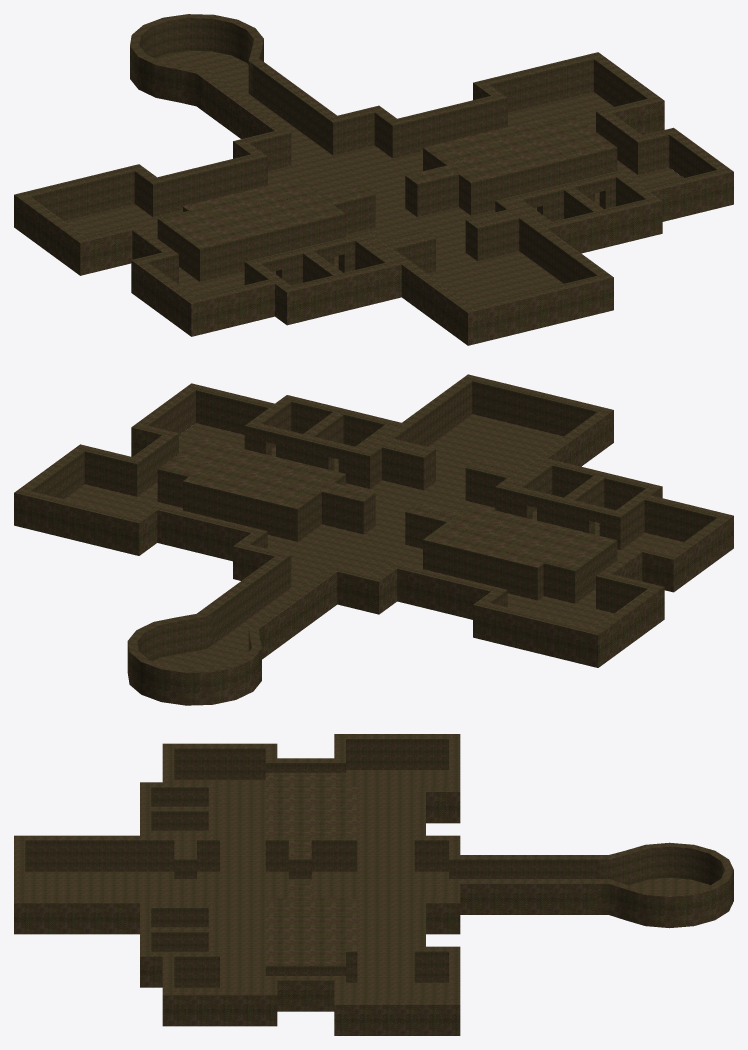
The model's file is USS Columbia.fbx.
3 views of the same model, one above another, from view 1: azimuth 30°, elevation 25°; view 2: azimuth 150°, elevation 25°; view 3: azimuth 270°, elevation 25° (orthographic). The views are drawn at different scales.
Visible parts, largest first — view 1: Starship Roof, Starship Starship Exterior, Starship Cockpit Walls, Starship Floor.008, Starship Bathrooms, Starship Floor.006, Starship Barracks, Starship Security Office, Starship North East Corridor, Starship Office, Starship North West Corridor, Starship South East Corridor (+15 smaller); view 2: Starship Roof, Starship Starship Exterior, Starship Cockpit Walls, Starship Barracks, Starship Floor.006, Starship Bathrooms, Starship Floor.008, Starship Security Office, Starship North West Corridor, Starship North East Corridor, Starship Common Room, Starship South East Corridor (+15 smaller); view 3: Starship Roof, Starship Starship Exterior, Starship Cockpit Walls, Starship Floor.008, Starship Barracks, Starship Bathrooms, Starship Floor.006, Starship Floor.007, Starship Floor.011, Starship Office, Starship Floor.002, Starship Floor.010 (+13 smaller).
Part boxes in pixels (<box>): Starship Roof: <box>14,52,733,312</box>; Starship Starship Exterior: <box>14,78,733,345</box>; Starship Cockpit Walls: <box>130,18,263,110</box>; Starship Floor.008: <box>267,145,412,215</box>; Starship Bathrooms: <box>262,177,645,285</box>; Starship Floor.006: <box>428,251,563,305</box>; Starship Barracks: <box>394,218,596,283</box>; Starship Security Office: <box>490,59,647,112</box>; Starship North East Corridor: <box>392,97,507,158</box>; Starship Office: <box>30,171,188,220</box>; Starship North West Corridor: <box>153,156,267,216</box>; Starship South East Corridor: <box>471,152,605,215</box>; Starship Roof: <box>14,374,733,635</box>; Starship Starship Exterior: <box>14,410,733,667</box>; Starship Cockpit Walls: <box>127,612,264,705</box>; Starship Barracks: <box>394,381,597,446</box>; Starship Floor.006: <box>424,414,563,500</box>; Starship Bathrooms: <box>261,402,645,511</box>; Starship Floor.008: <box>283,524,422,589</box>; Starship Security Office: <box>31,451,188,507</box>; Starship North West Corridor: <box>423,540,537,600</box>; Starship North East Corridor: <box>183,481,297,541</box>; Starship Common Room: <box>250,491,446,548</box>; Starship South East Corridor: <box>244,426,369,488</box>; Starship Roof: <box>14,734,597,1004</box>; Starship Starship Exterior: <box>14,792,597,1035</box>; Starship Cockpit Walls: <box>597,846,733,928</box>; Starship Floor.008: <box>311,871,448,929</box>; Starship Barracks: <box>25,840,174,871</box>; Starship Bathrooms: <box>151,787,208,951</box>; Starship Floor.006: <box>25,871,174,898</box>; Starship Floor.007: <box>197,871,288,929</box>; Starship Floor.011: <box>346,770,448,818</box>; Starship Office: <box>346,739,448,769</box>; Starship Floor.002: <box>357,929,414,982</box>; Starship Floor.010: <box>357,818,414,871</box>.
Size of the model in its own units: 5600 by 300 by 6291.
